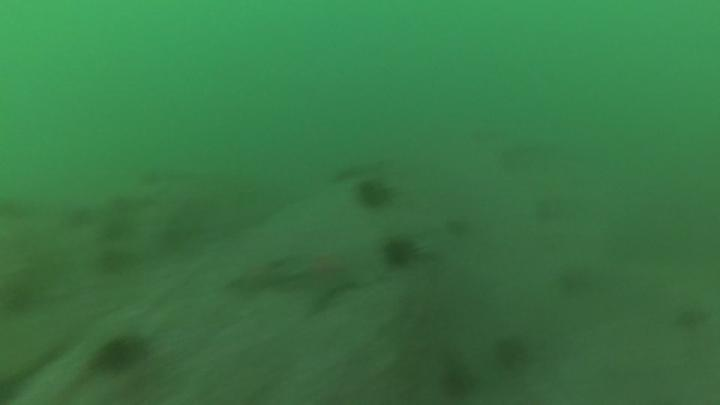echinus: (95, 334, 141, 380), (491, 333, 530, 378), (354, 176, 398, 213), (381, 234, 422, 272), (674, 302, 716, 334), (96, 247, 126, 280), (63, 203, 97, 232)
starfish: (225, 244, 378, 320)
